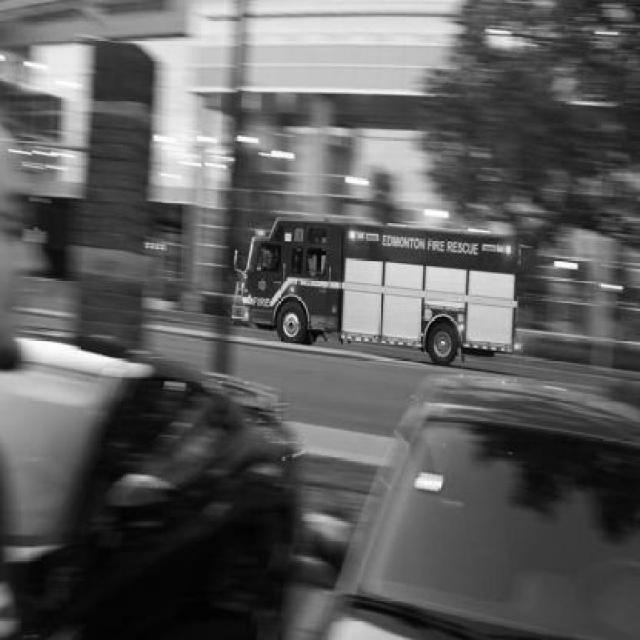Fire Truck: (230, 217, 531, 365)
